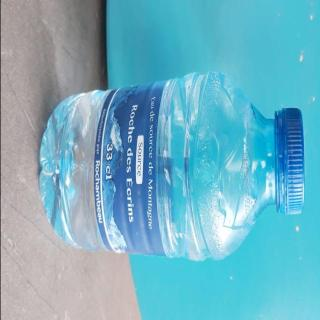Anorganik: (35, 72, 311, 264)
